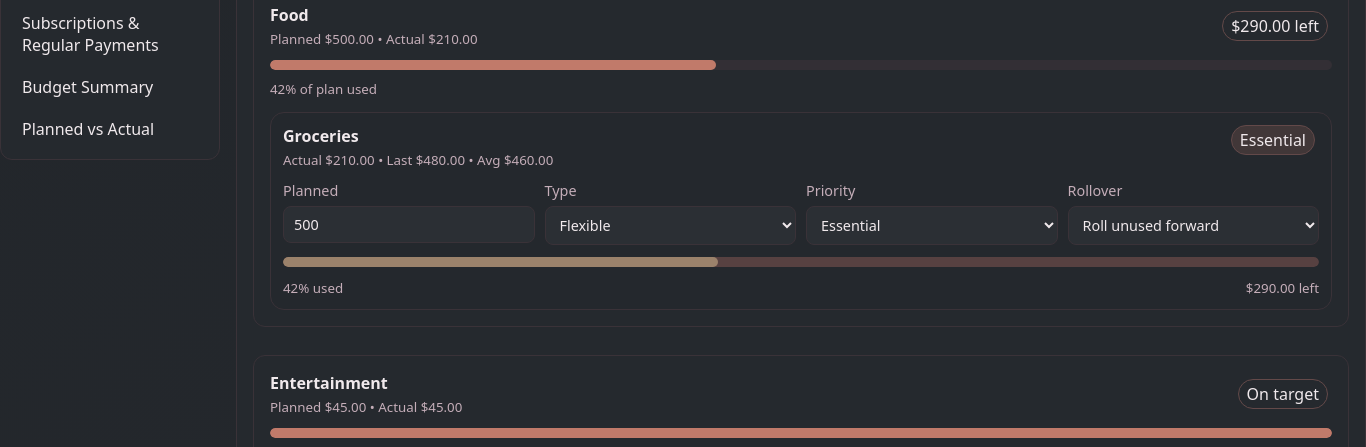
BudgetPage › saves the edited budget month
The width and height of the screenshot is (1366, 447).
(page scrolled)
Replace the text in the number field labelled "Planned" below "$480.00" with "550" at {"x": 409, "y": 224}, box [283, 206, 534, 243]
(page scrolled)
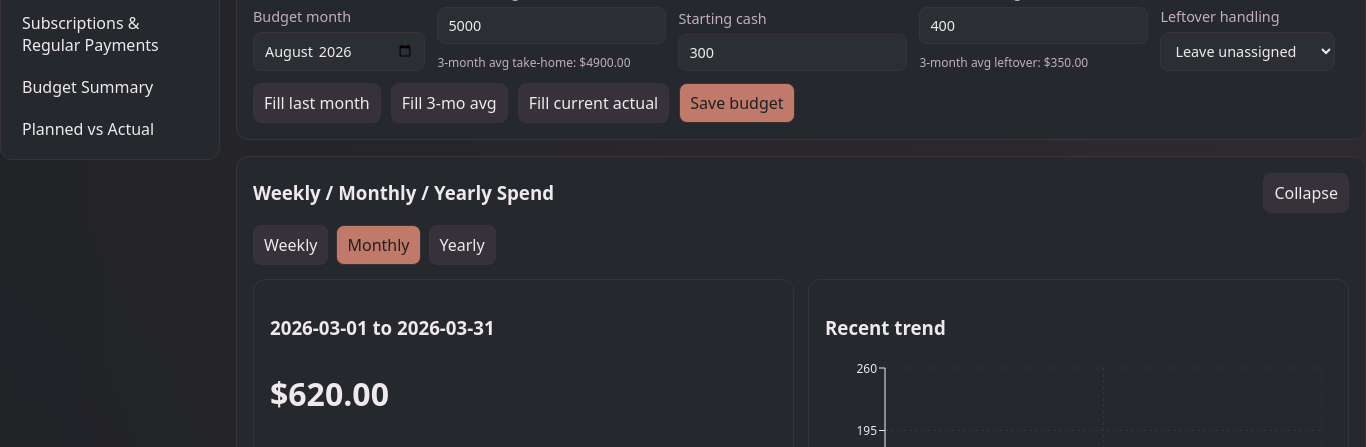
Click the button "Save budget".
click(737, 103)  # box [679, 83, 795, 123]
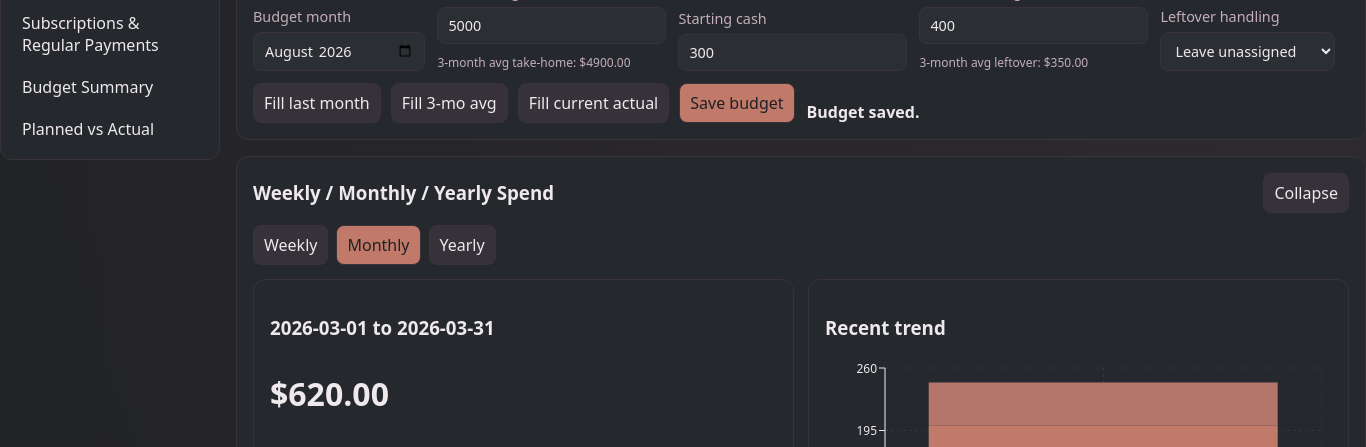
Expected: the text "Budget saved." is shown, [806, 101, 920, 123]
